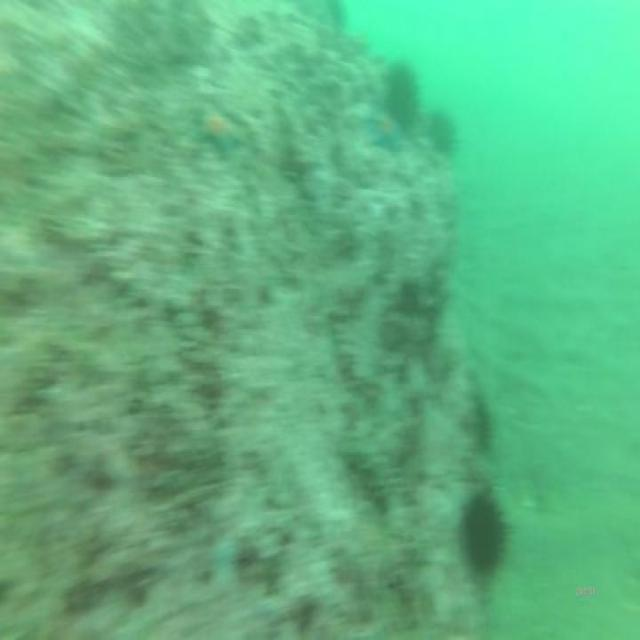echinus: (463, 486, 509, 584), (382, 57, 422, 128), (430, 102, 460, 162)
holothurian: (340, 424, 390, 518)
starfish: (198, 102, 244, 160), (368, 110, 406, 156)
